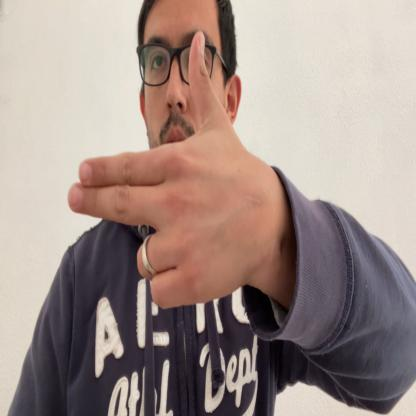H: (67, 28, 265, 313)
